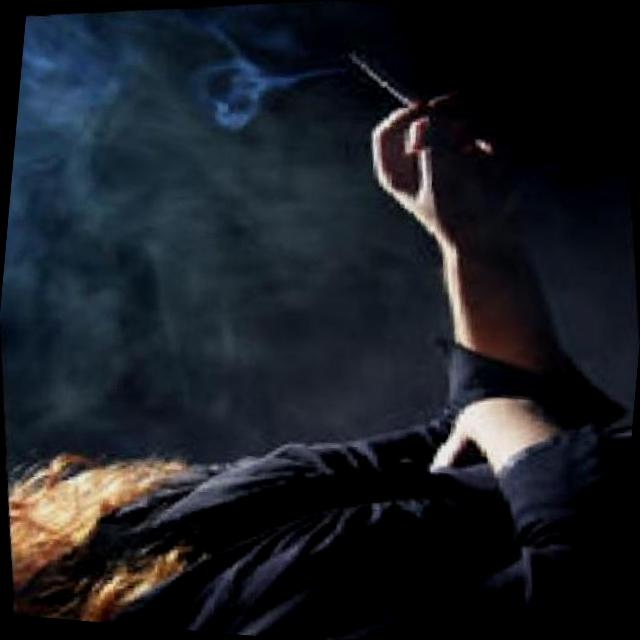cigarette: (346, 38, 428, 118)
